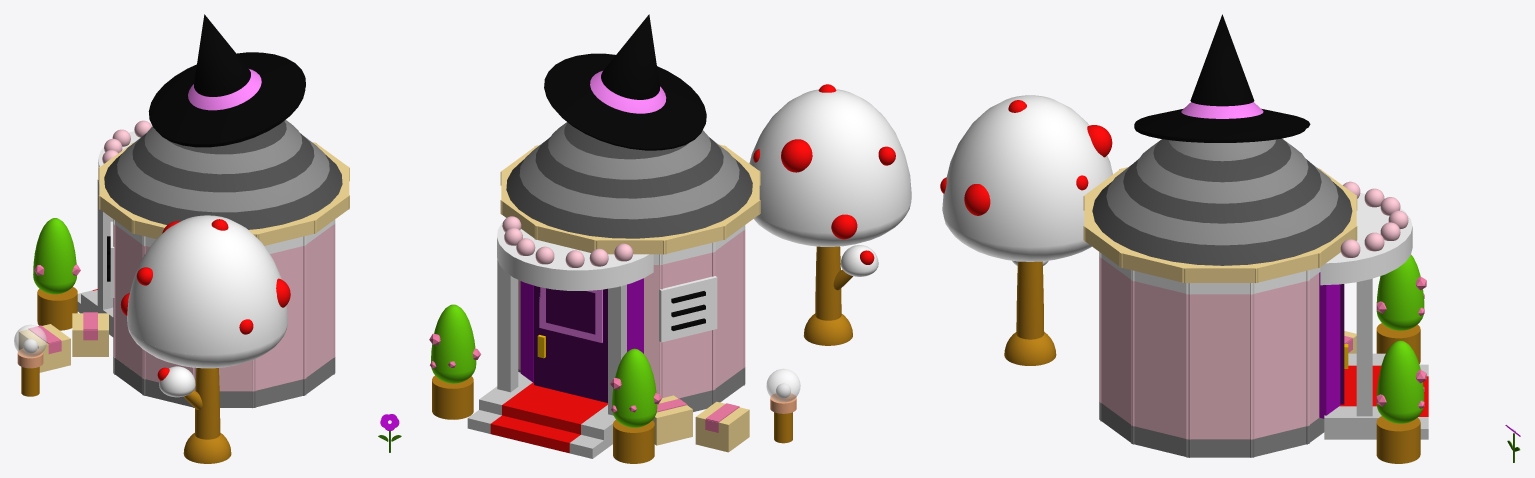
File: mdl-witchhouse.glb
The picture shows the model from 3 angles, left to right: view 1: azimuth 30°, elevation 25°; view 2: azimuth 150°, elevation 25°; view 3: azimuth 270°, elevation 25°; orthographic projection. The views are drawn at different scales.
Parts seen in each view (by area): view 1: hemisphere.041, cone.006, cone, cone.005, box.100, box.101, cone.004, box.095, cone.002, hemisphere.024, hemisphere.042, hemisphere.037 (+26 smaller); view 2: hemisphere.041, cone.006, cone, cone.005, halfCylinder.014, box.094, box.095, cone.004, box.077, box.106, cone.002, box.137 (+32 smaller); view 3: hemisphere.041, cone.006, box.096, box.097, box.092, cone.005, box.100, cone.004, cone, halfCylinder.014, cone.002, box.071 (+29 smaller).
Part boxes in pixels (<box>): hemisphere.041: <box>127,215,288,354</box>; cone.006: <box>104,121,342,229</box>; cone: <box>148,52,305,144</box>; cone.005: <box>117,135,329,212</box>; box.100: <box>303,224,335,379</box>; box.101: <box>252,245,306,391</box>; cone.004: <box>144,120,302,174</box>; box.095: <box>113,223,145,379</box>; cone.002: <box>194,14,250,96</box>; hemisphere.024: <box>33,218,76,284</box>; hemisphere.042: <box>127,324,287,368</box>; hemisphere.037: <box>195,368,220,439</box>; hemisphere.041: <box>749,89,911,232</box>; cone.006: <box>506,122,752,238</box>; cone: <box>544,53,706,148</box>; cone.005: <box>519,140,739,219</box>; halfCylinder.014: <box>497,222,653,290</box>; box.094: <box>659,252,715,398</box>; box.095: <box>712,229,745,390</box>; cone.004: <box>548,122,710,179</box>; box.077: <box>539,328,605,402</box>; box.106: <box>502,383,607,434</box>; cone.002: <box>601,14,659,99</box>; box.137: <box>659,276,717,342</box>; hemisphere.041: <box>942,95,1112,247</box>; cone.006: <box>1092,138,1352,265</box>; box.096: <box>1186,294,1254,439</box>; box.097: <box>1131,280,1190,439</box>; box.092: <box>1250,280,1309,439</box>; cone.005: <box>1106,165,1338,245</box>; box.100: <box>1099,256,1134,426</box>; cone.004: <box>1136,140,1308,203</box>; cone: <box>1134,108,1310,139</box>; halfCylinder.014: <box>1320,193,1412,285</box>; cone.002: <box>1190,14,1254,106</box>; box.071: <box>1319,272,1340,418</box>.
Size of the model in its own units: 92.39 by 108 by 145.
